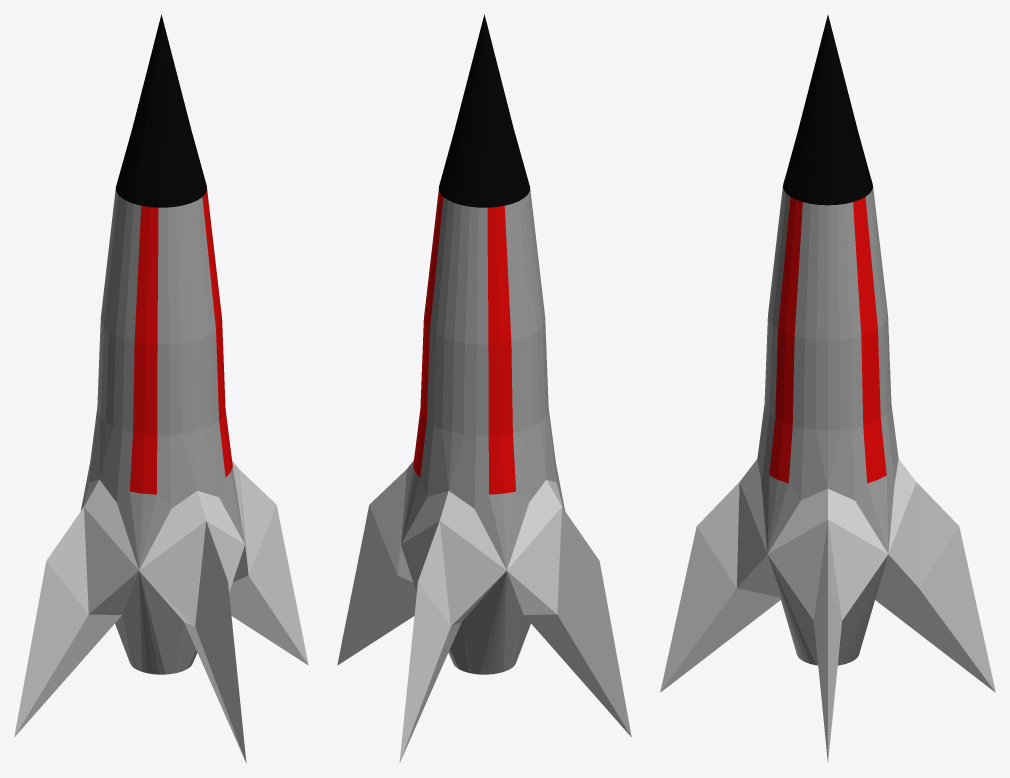
File: Nuke.fbx
3 renders of one model, left to right at view 1: azimuth 30°, elevation 25°; view 2: azimuth 150°, elevation 25°; view 3: azimuth 270°, elevation 25°, orthographic.
Visible parts, largest first — view 1: Nuke; view 2: Nuke; view 3: Nuke.
Boxes of the visible parts, x1,y1,x2,y2 form: Nuke: (14, 14, 308, 763); Nuke: (337, 14, 631, 763); Nuke: (660, 15, 995, 761).
Size of the model in its own units: 327 by 729 by 327.
